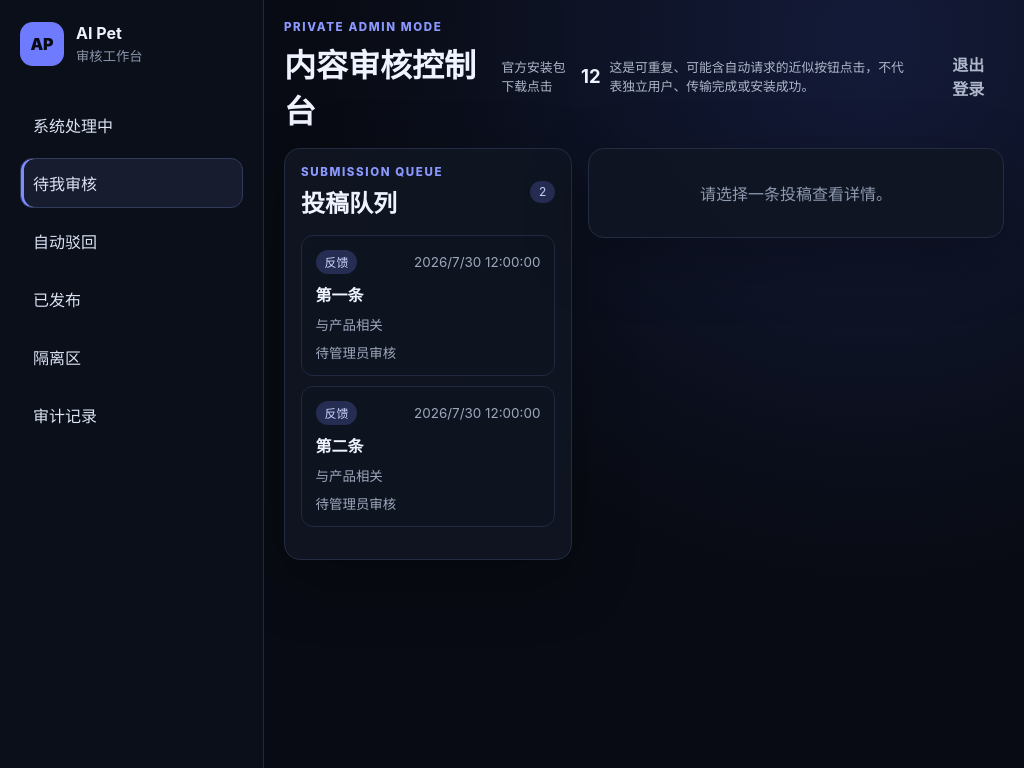
Scenario: 管理员审核工作台 › 切换投稿会清空上一条的审核理由
Click the text "第一条".
click(340, 295)  # box top-left (316, 285), bottom-right (364, 305)
(page scrolled)
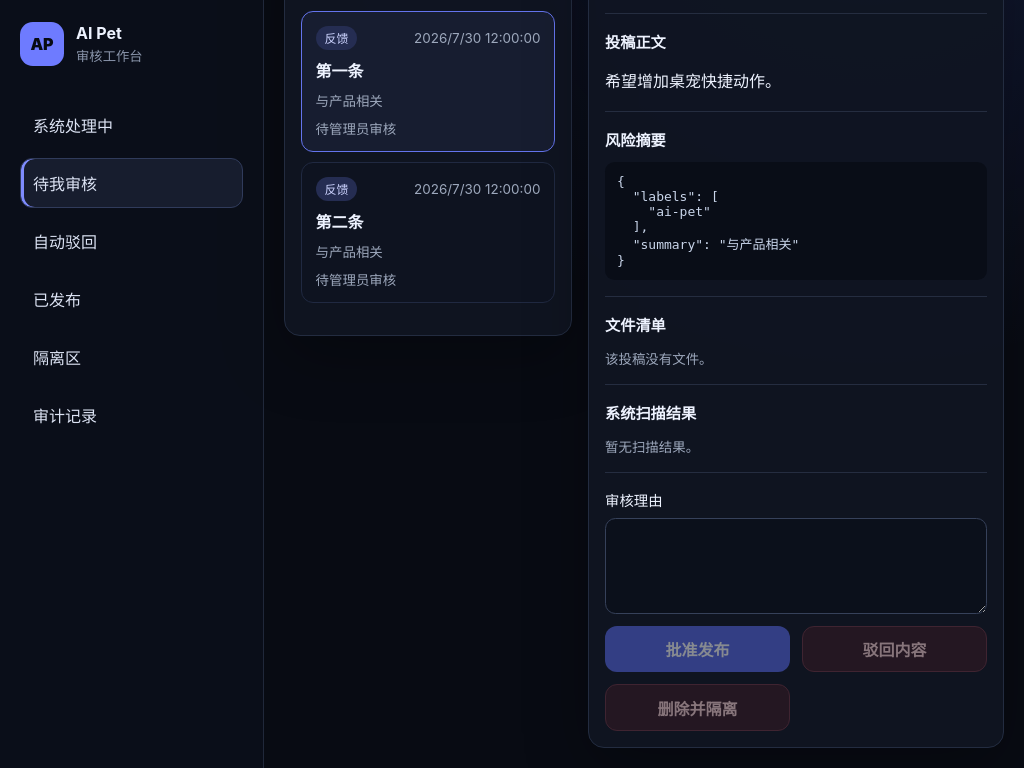
Type "仅属于第一条的理由" into the text box labelled "审核理由".
click(796, 566); type("仅属于第一条的理由")  # box top-left (605, 518), bottom-right (987, 614)
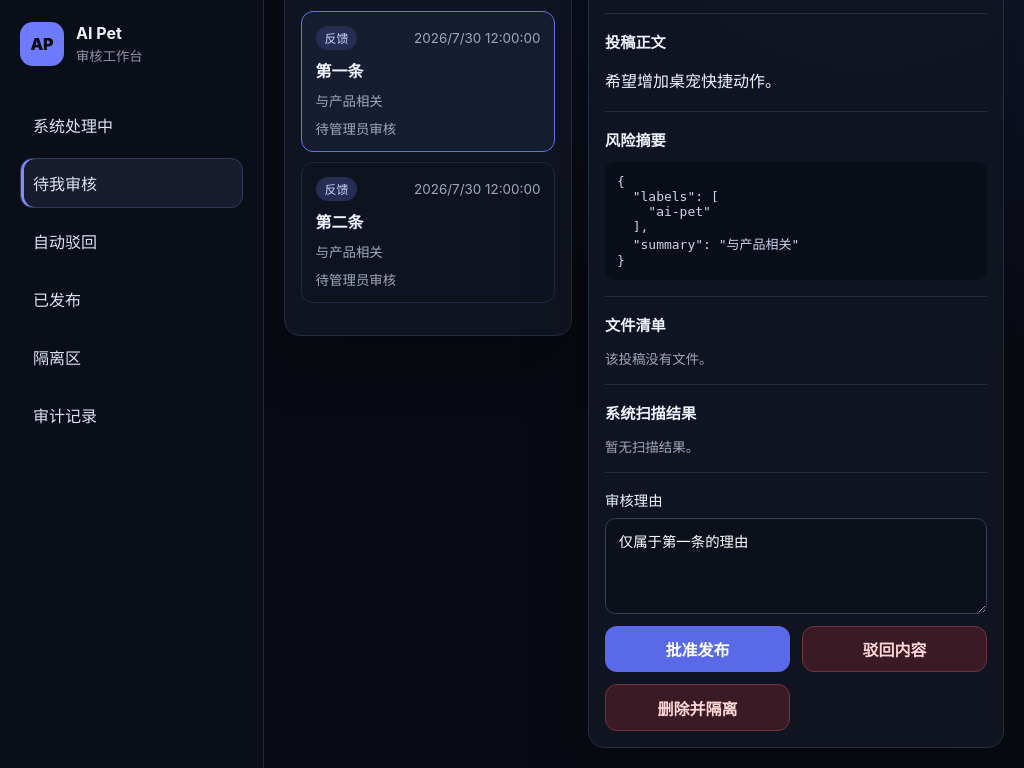
Click the text "第二条".
click(340, 222)  # box top-left (316, 212), bottom-right (364, 232)
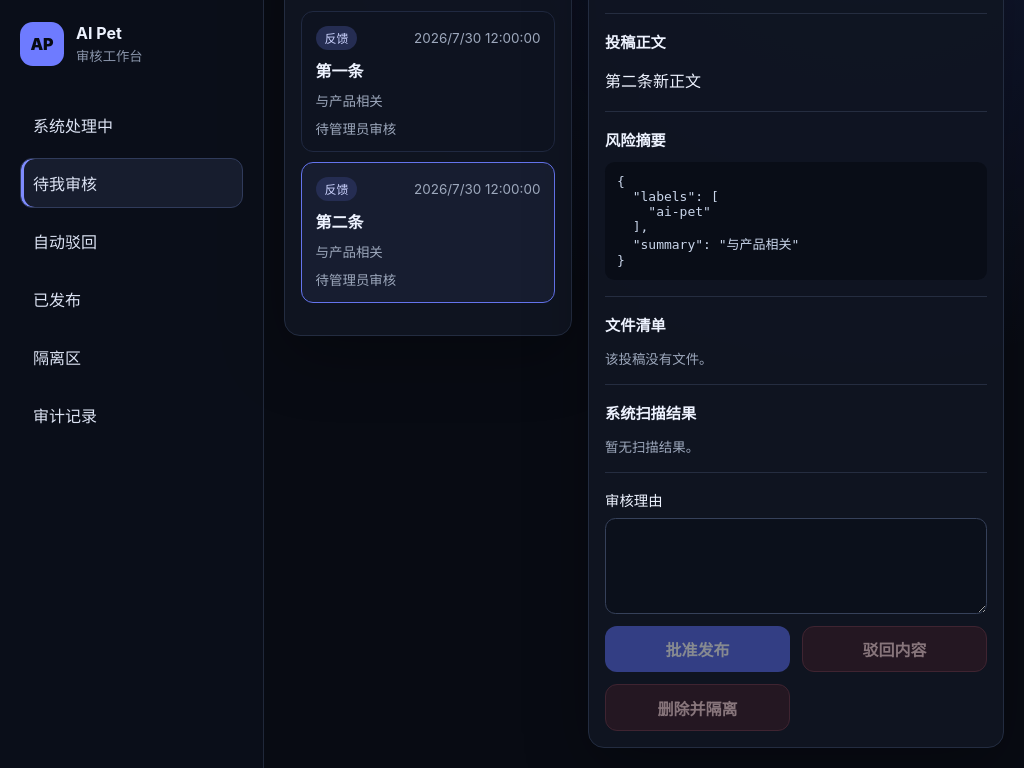
Expected: the text "第二条新正文" is shown, top-left (605, 71), bottom-right (701, 91)
Expected: the text box labelled "审核理由" is empty, top-left (605, 518), bottom-right (987, 614)
Expected: the button "批准发布" is disabled, top-left (605, 626), bottom-right (790, 672)
